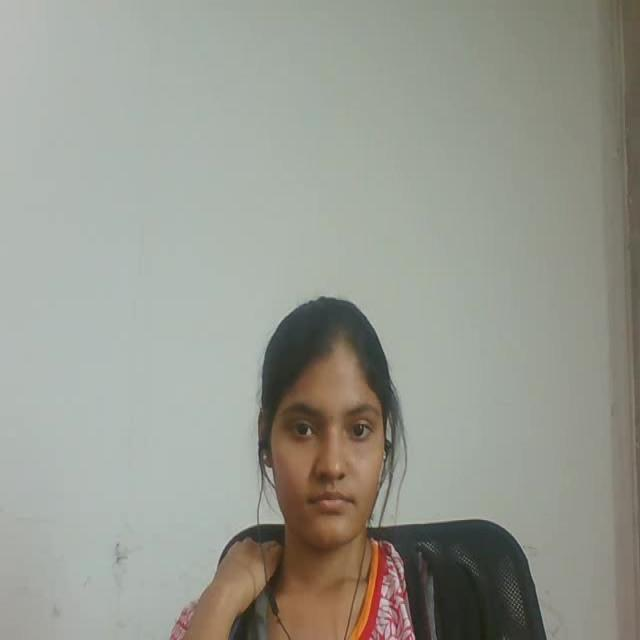Engaged: (253, 265, 414, 580)
